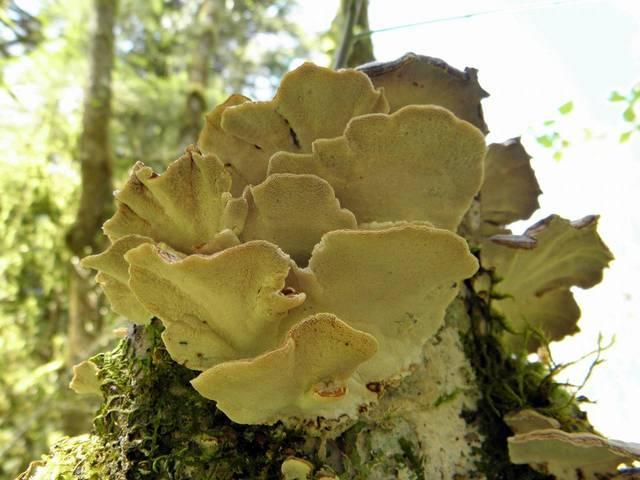poisonous_mushroom: (79, 57, 492, 427), (482, 134, 640, 480)
